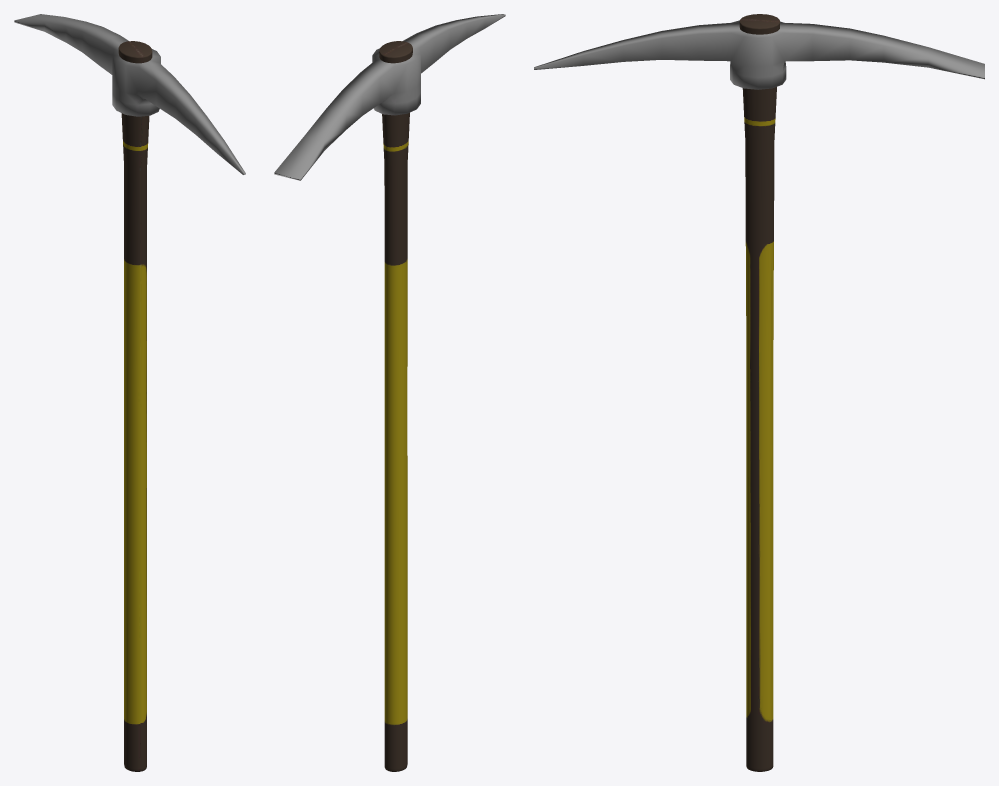
The model's file is PlasticPickaxe.glb.
The picture shows the model from 3 angles, left to right: view 1: azimuth 30°, elevation 25°; view 2: azimuth 150°, elevation 25°; view 3: azimuth 270°, elevation 25°; orthographic projection. The views are drawn at different scales.
Visible parts, largest first — view 1: RubberPickaxe_LOD0; view 2: RubberPickaxe_LOD0; view 3: RubberPickaxe_LOD0.
Part boxes in pixels (x1,y1,x2,y2): RubberPickaxe_LOD0: (14, 14, 245, 771); RubberPickaxe_LOD0: (274, 14, 505, 771); RubberPickaxe_LOD0: (534, 14, 984, 771).
Size of what is drawn, in the model's own units: 0.0597 by 1.01 by 0.5536.
1 material, 1 textured.
